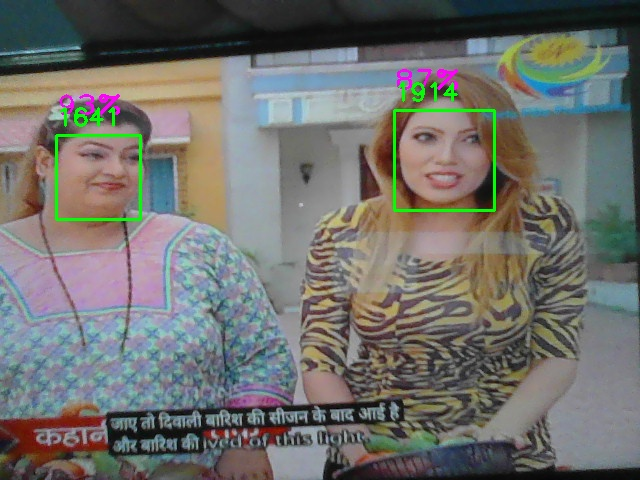fake: (394, 110, 495, 211), (56, 135, 141, 220)
